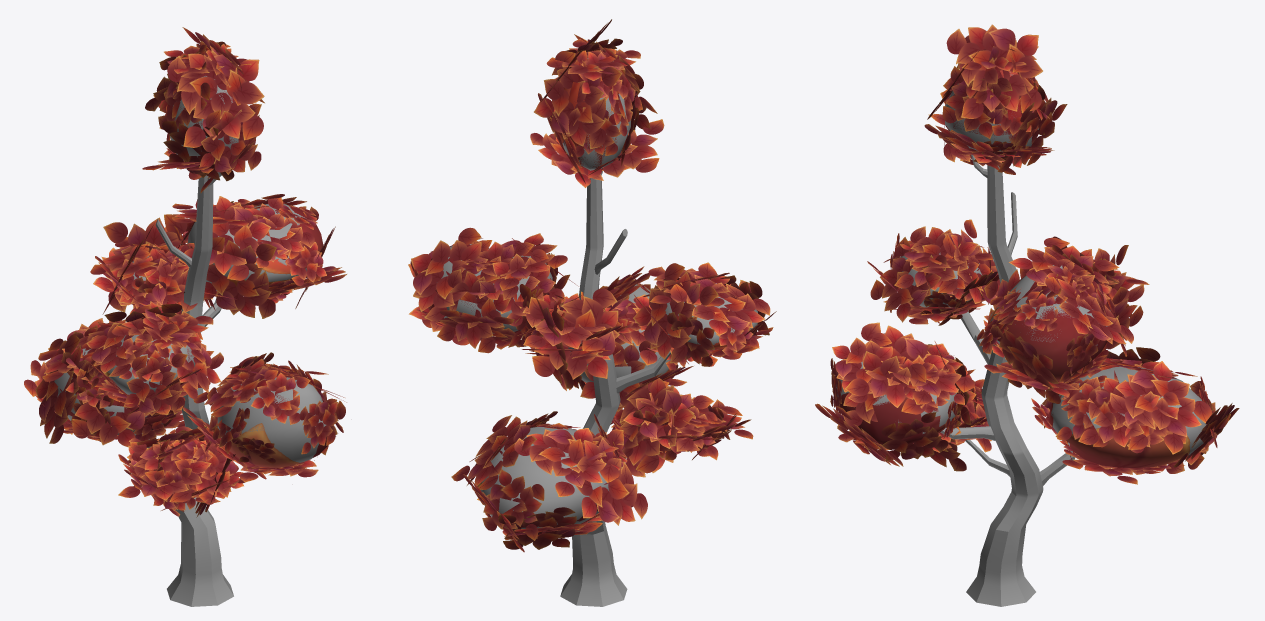
File: Mesh_Miranda_Tree1.FBX
The picture shows the model from 3 angles, left to right: view 1: azimuth 30°, elevation 25°; view 2: azimuth 150°, elevation 25°; view 3: azimuth 270°, elevation 25°; orthographic projection.
Visible parts, largest first — view 1: Object029; view 2: Object029; view 3: Object029.
Boxes of the visible parts, box(x1,y1,x2,y2) form: Object029: box(24, 27, 346, 606); Object029: box(408, 19, 776, 606); Object029: box(815, 24, 1239, 606).
Size of the model in its own units: 642 by 1130 by 790.
